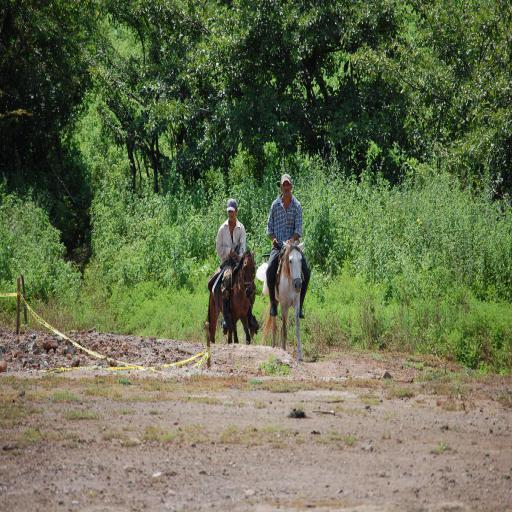horse: (257, 239, 307, 363), (204, 249, 256, 344)
